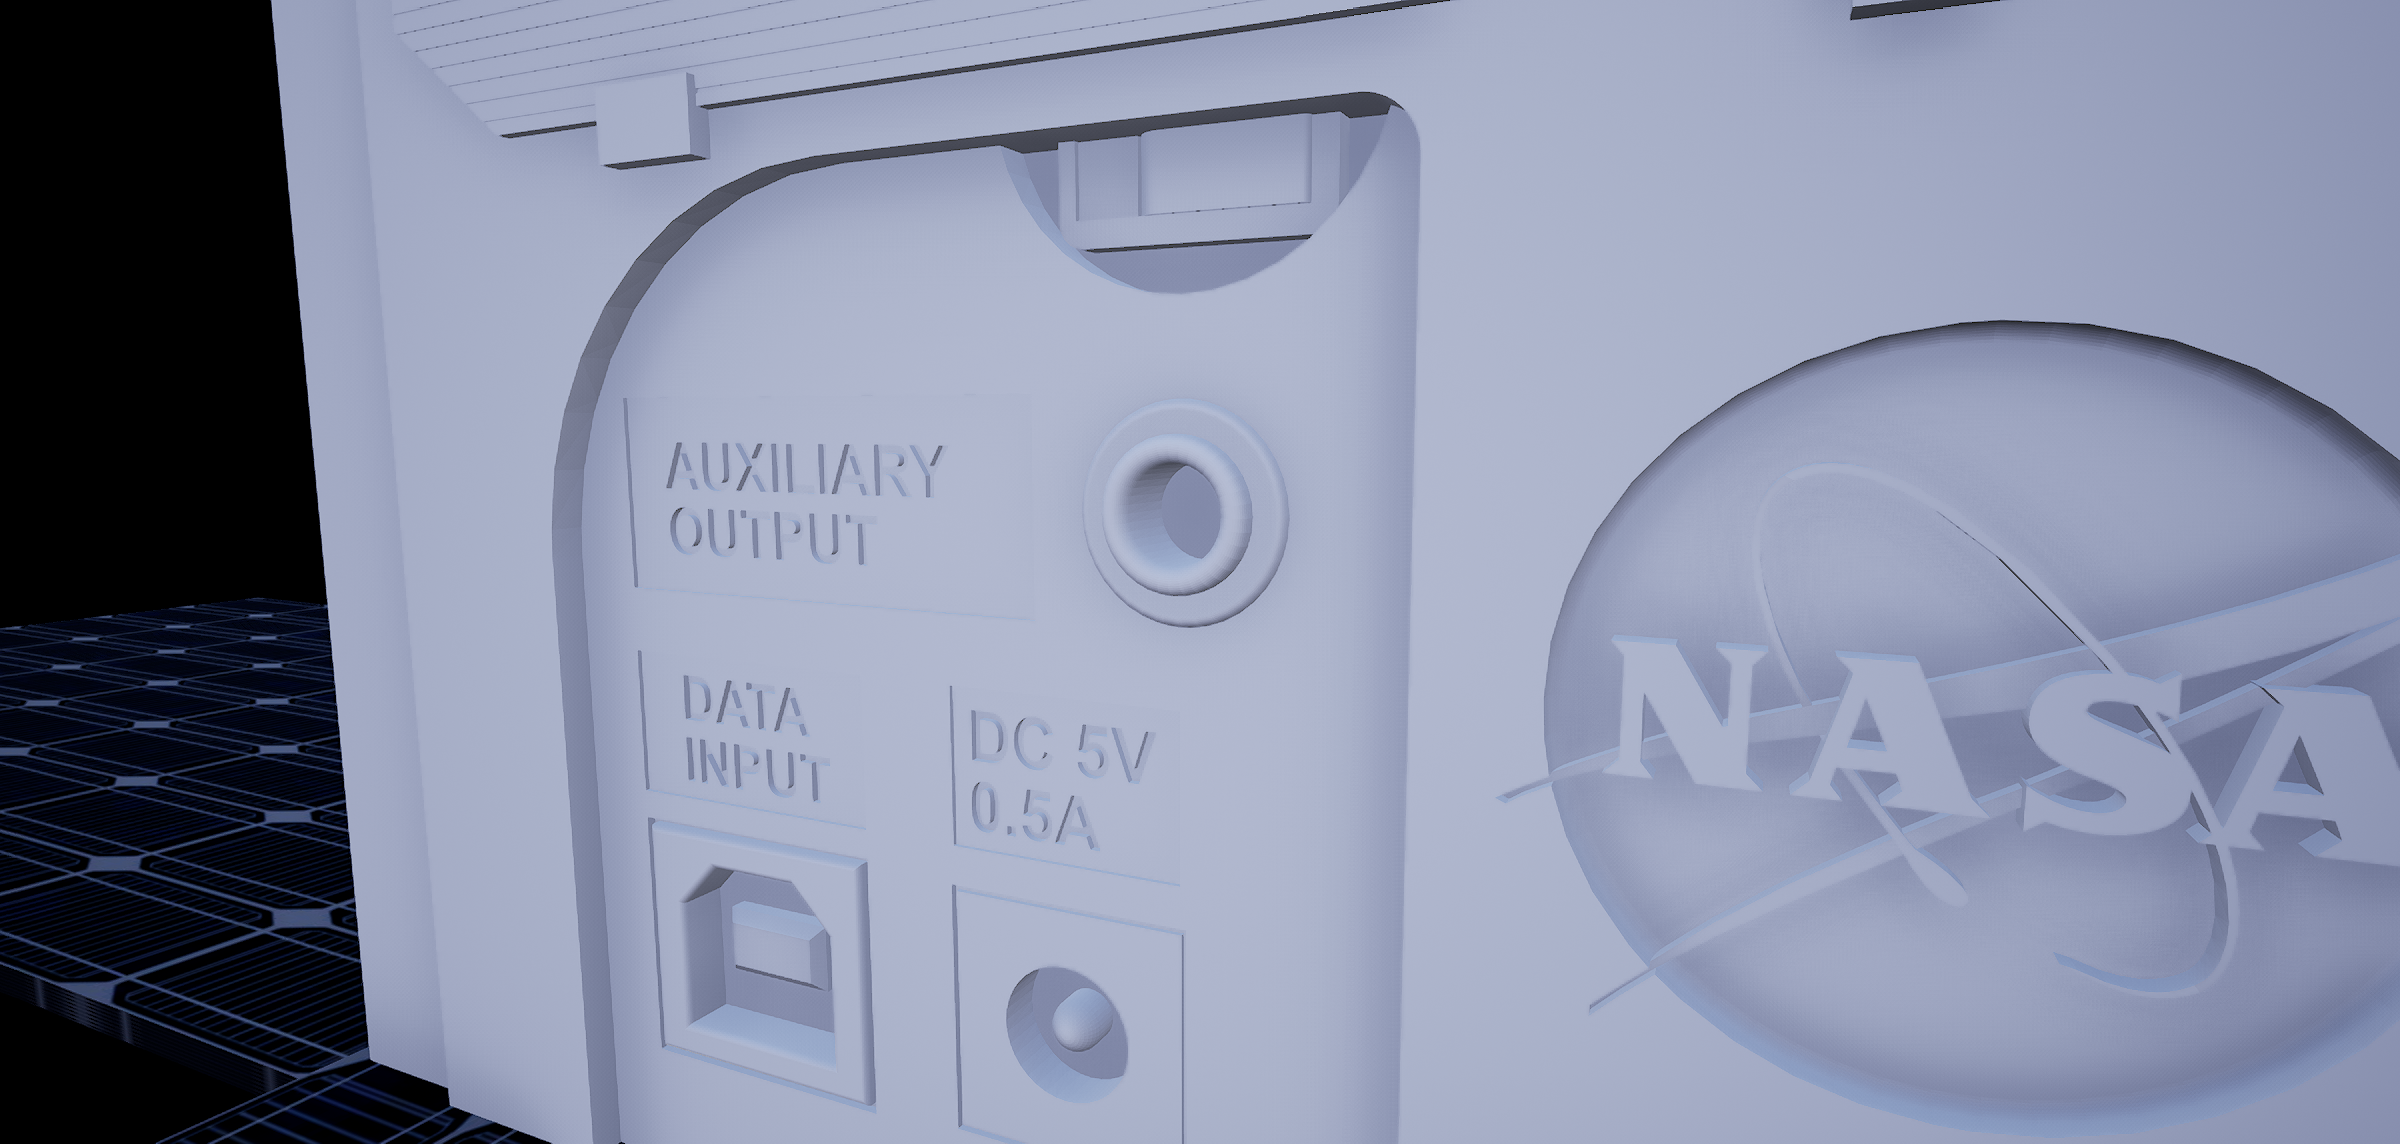aux: (1071, 394, 1316, 645)
dc: (993, 951, 1137, 1116)
usb: (678, 848, 846, 1081)
